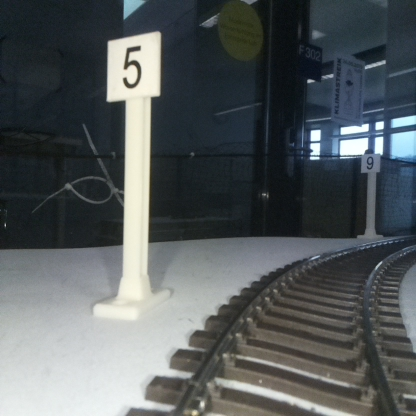white-info-5: (107, 32, 159, 314)
white-info-9: (361, 153, 379, 238)
